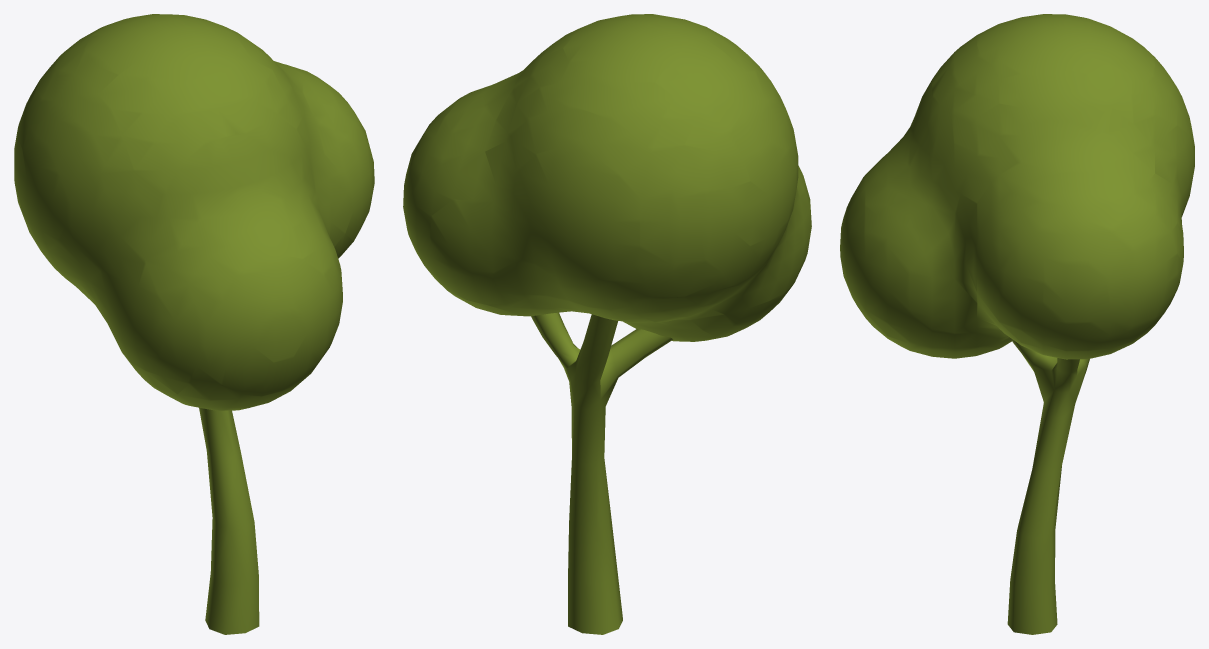
File: SM_Tree_1.fbx
3 views of the same model, side by side, from view 1: azimuth 30°, elevation 25°; view 2: azimuth 150°, elevation 25°; view 3: azimuth 270°, elevation 25° (orthographic). The views are drawn at different scales.
Visible parts, largest first — view 1: SM_Tree_1; view 2: SM_Tree_1; view 3: SM_Tree_1.
Part boxes in pixels (bbox=[...]): SM_Tree_1: bbox=[14, 14, 374, 634]; SM_Tree_1: bbox=[403, 14, 811, 634]; SM_Tree_1: bbox=[840, 14, 1194, 634].
Bounding box in the file's own units: 3.44 × 5.86 × 3.31.
